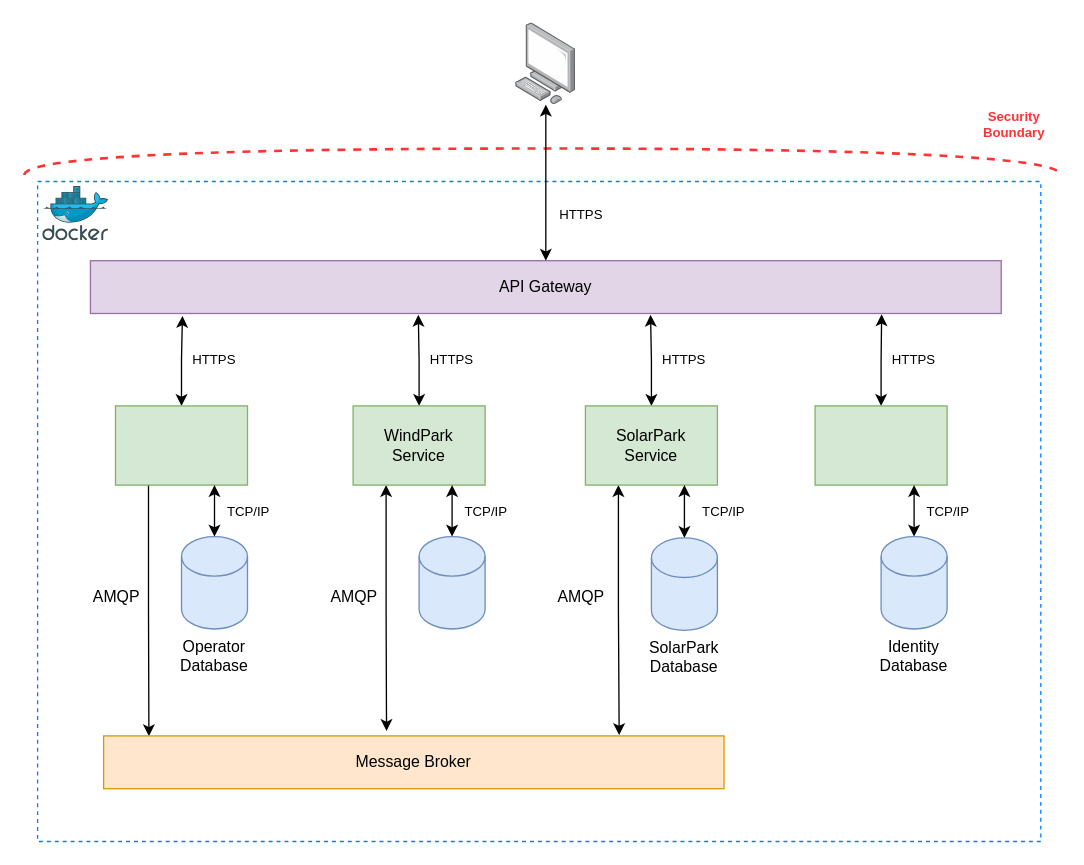
Some shapes in this 1084 by 865 pixel diagram are drawn without their labels. The centre of each missing label's shape, as x and y in pixels:
Identity Service: point 880,445
Operator Service: point 181,445
WindPark Database: point 451,582
